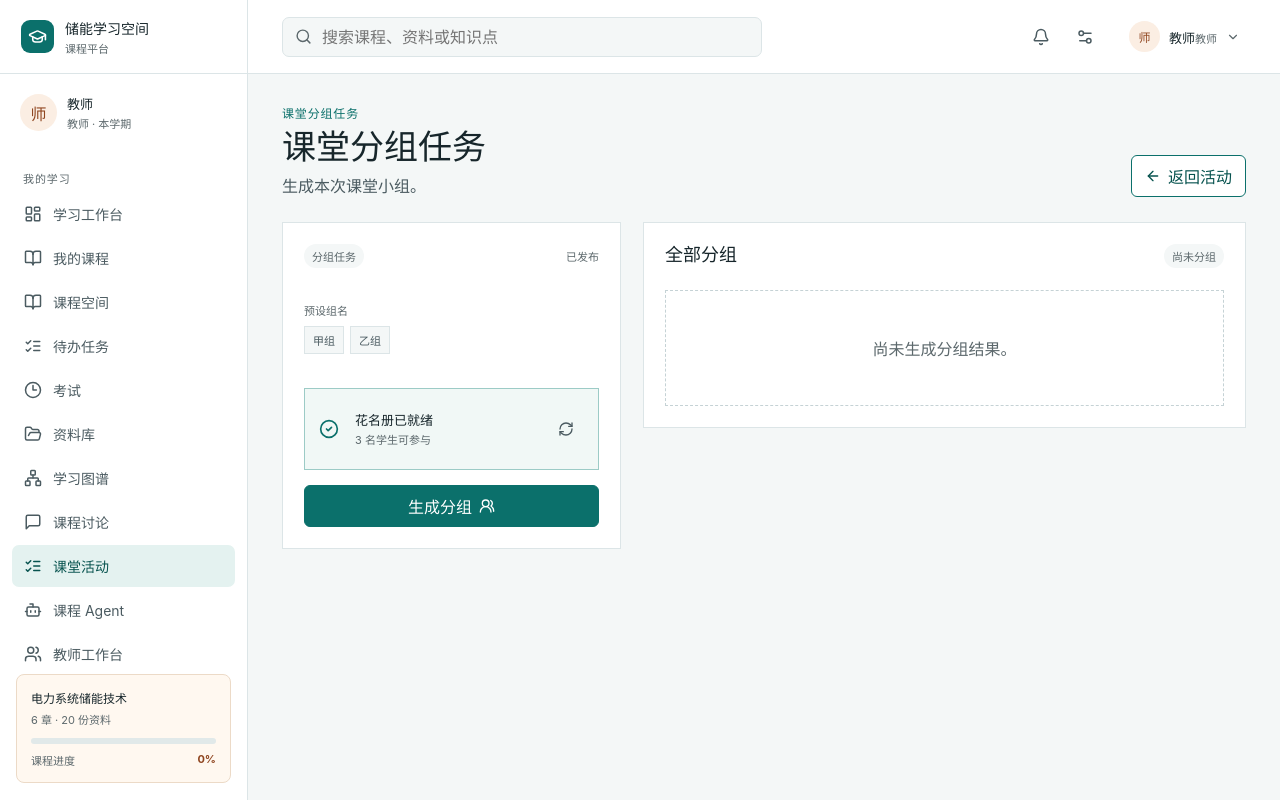
Scenario: learning platform component › teacher generates a balanced group revision with protected headers
Expected: the text "3 名学生可参与" is shown, [355, 433, 431, 447]
Click the button "生成分组" at (452, 506), box [304, 485, 599, 527]
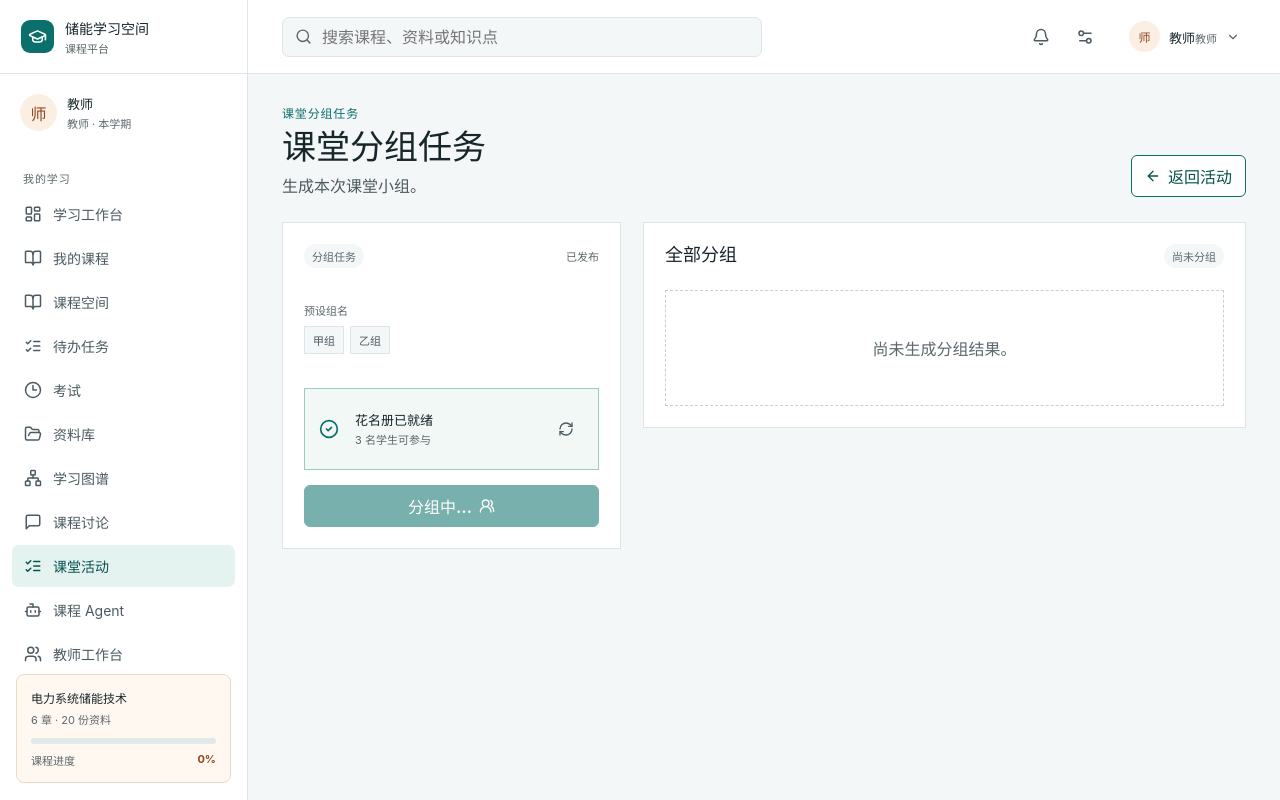
Click the button named "生成分组" at (452, 506), box [304, 485, 599, 527]
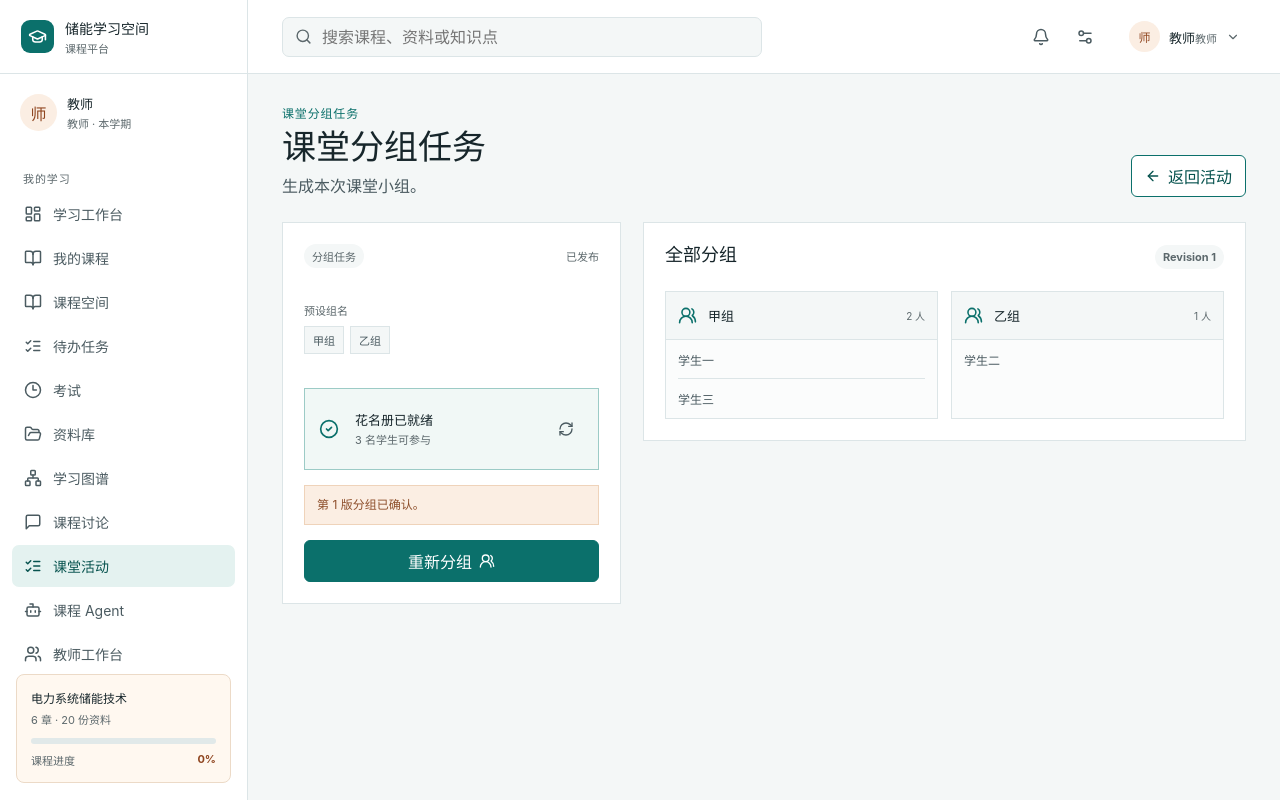
Expected: the text "甲组" below "预设组名" is shown, [313, 334, 335, 348]
Now the text "第 1 版分组已确认。" is shown, box [304, 485, 599, 525]
Now the text "Revision 1" is shown, box [1155, 245, 1224, 269]
